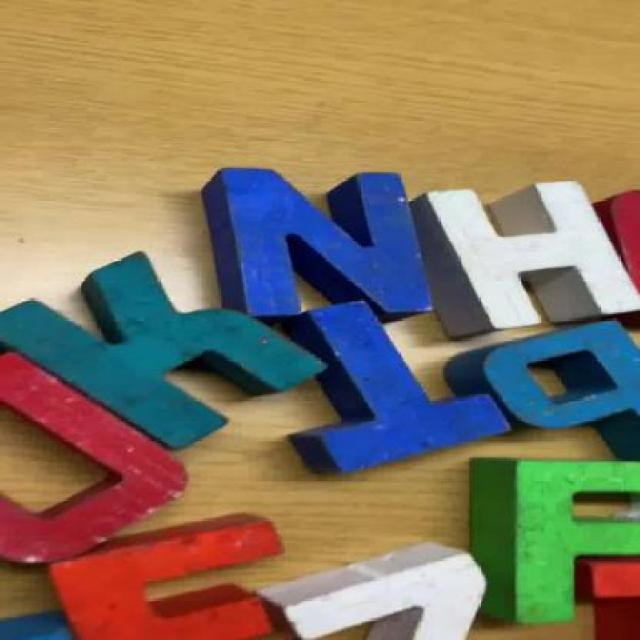F: (452, 454, 640, 626)
H: (419, 179, 632, 336)
K: (4, 252, 333, 450)
N: (195, 164, 434, 325)
